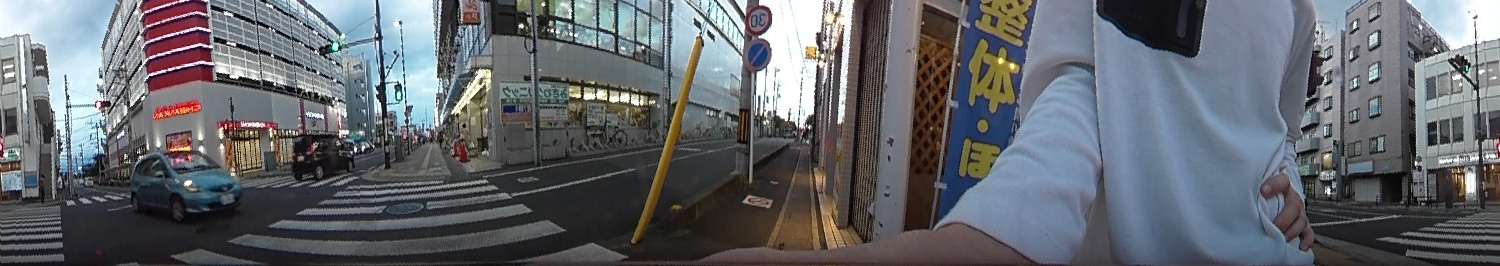difficult_person: (36, 173, 47, 203)
